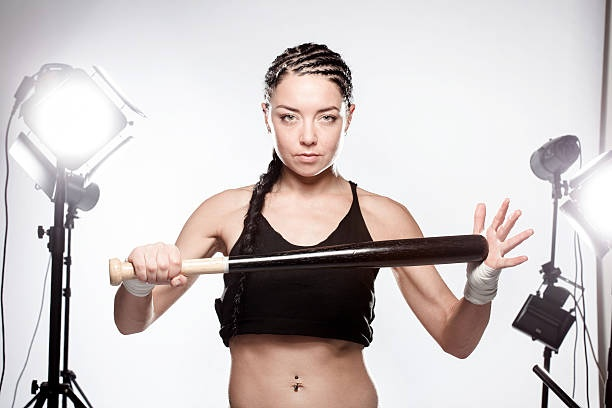bita: (111, 231, 487, 286)
